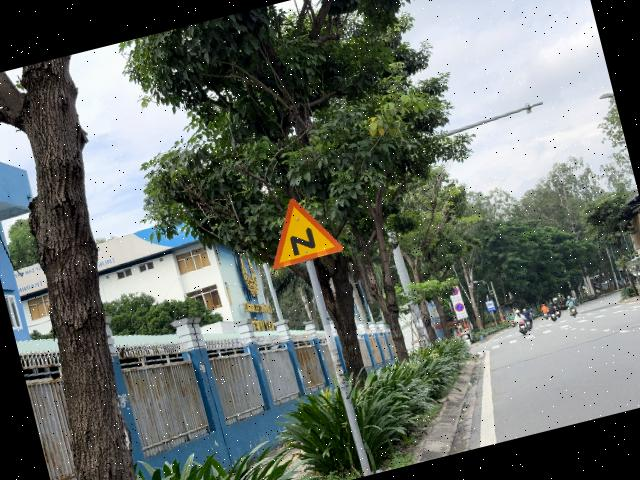nhieu-cho-ngoat-nguy-hiem-lien-tiep: (258, 190, 344, 270)
